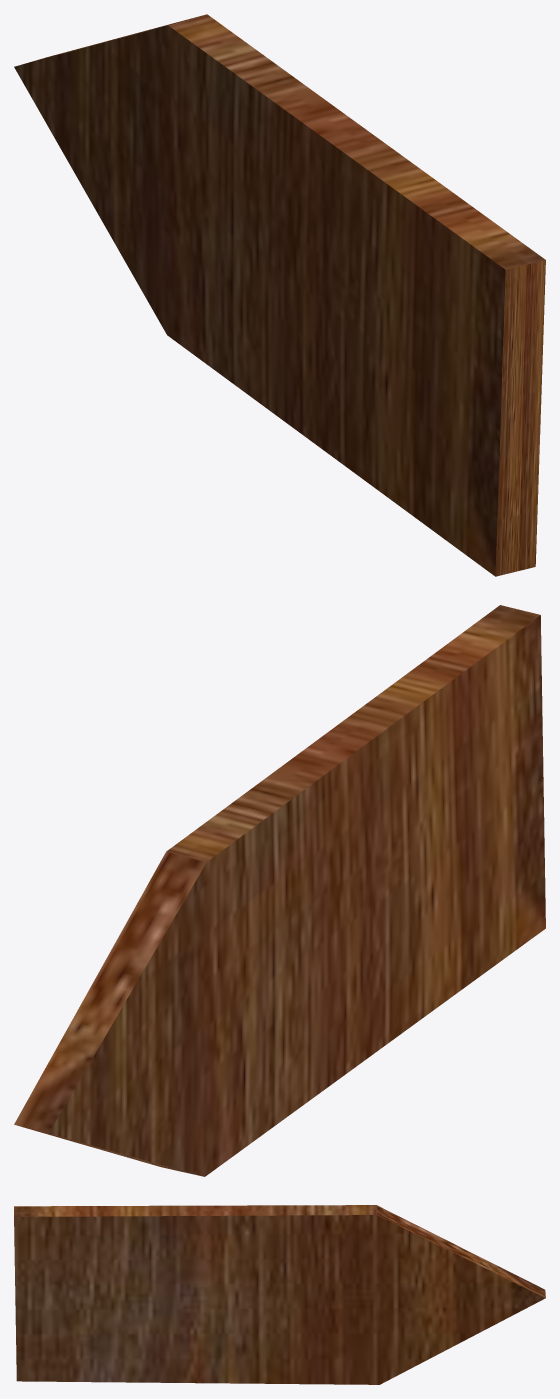
File: board.fbx
The picture shows the model from 3 angles, top to bottom: view 1: azimuth 30°, elevation 25°; view 2: azimuth 150°, elevation 25°; view 3: azimuth 270°, elevation 25°; orthographic projection. The views are drawn at different scales.
Visible parts, largest first — view 1: Cube; view 2: Cube; view 3: Cube.
Boxes of the visible parts, left/top/right/bottom form: Cube: left=14, top=14, right=545, bottom=576; Cube: left=14, top=605, right=545, bottom=1176; Cube: left=14, top=1205, right=545, bottom=1384.
Size of the model in its own units: 17.08 by 106 by 303.
